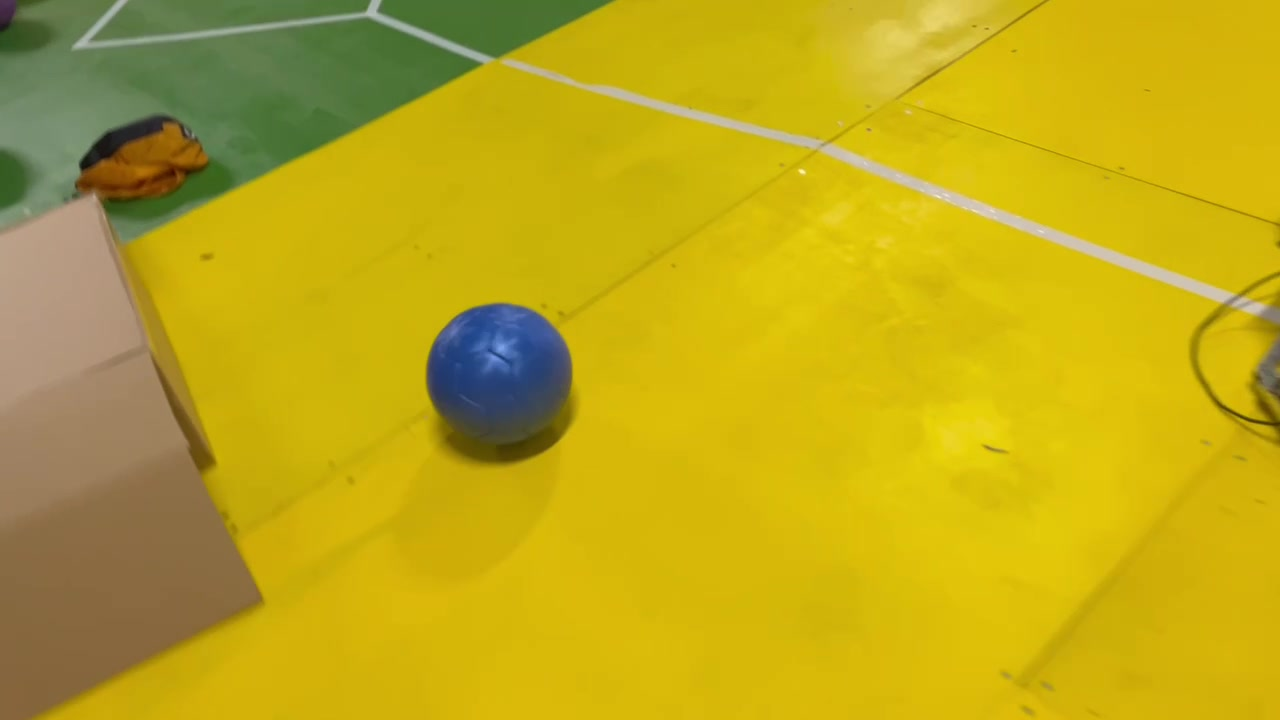blue: (411, 300, 588, 455)
